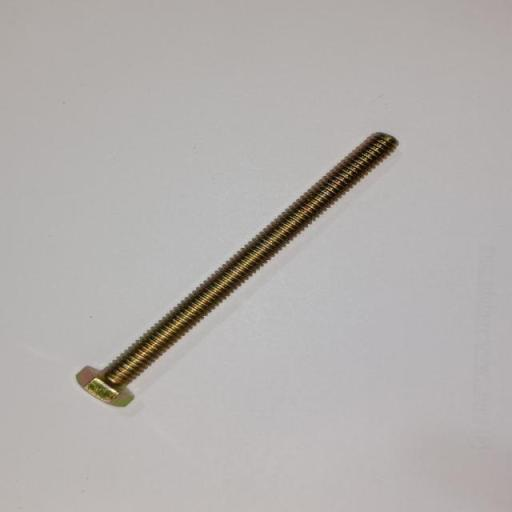Bolt: (75, 131, 400, 409)
